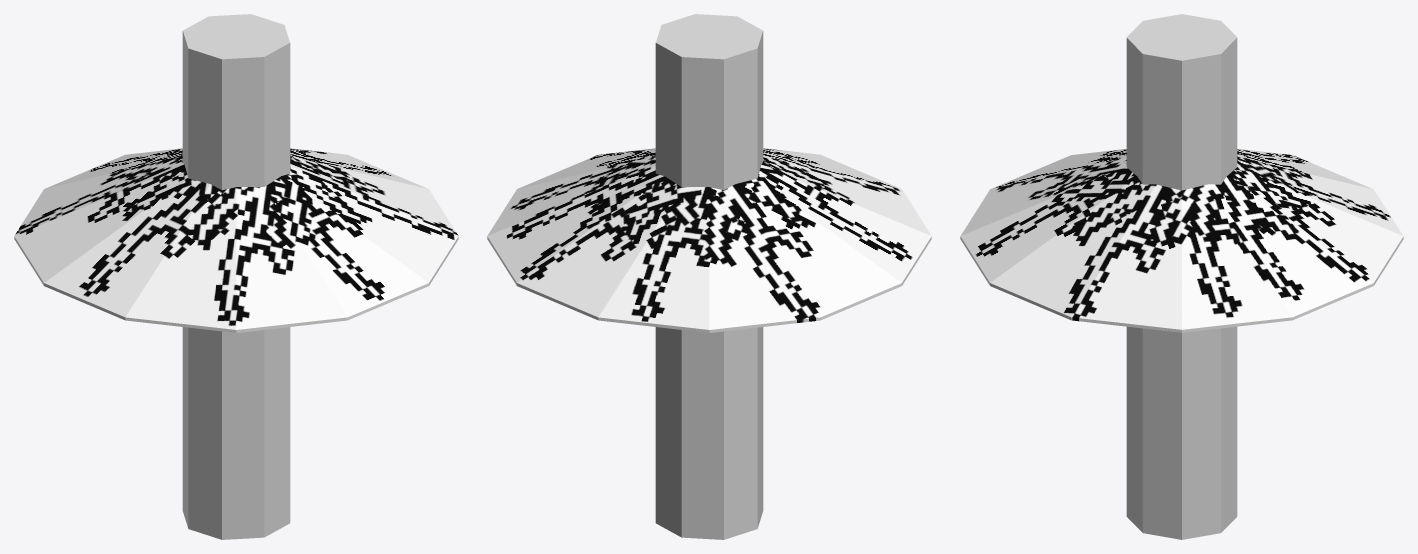
The model's file is LeavesUnderside.fbx.
3 views of the same model, side by side, from view 1: azimuth 30°, elevation 25°; view 2: azimuth 150°, elevation 25°; view 3: azimuth 270°, elevation 25° (orthographic).
Parts seen in each view (by area): view 1: Solid, Cylinder; view 2: Solid, Cylinder; view 3: Solid, Cylinder.
Boxes of the visible parts, box(x1,y1,x2,y2) form: Solid: box(14, 148, 458, 332); Cylinder: box(182, 14, 290, 539); Solid: box(487, 148, 931, 332); Cylinder: box(655, 14, 763, 539); Solid: box(960, 149, 1403, 332); Cylinder: box(1126, 14, 1237, 539).
Bounding box in the file's own units: 800 × 954 × 800.
